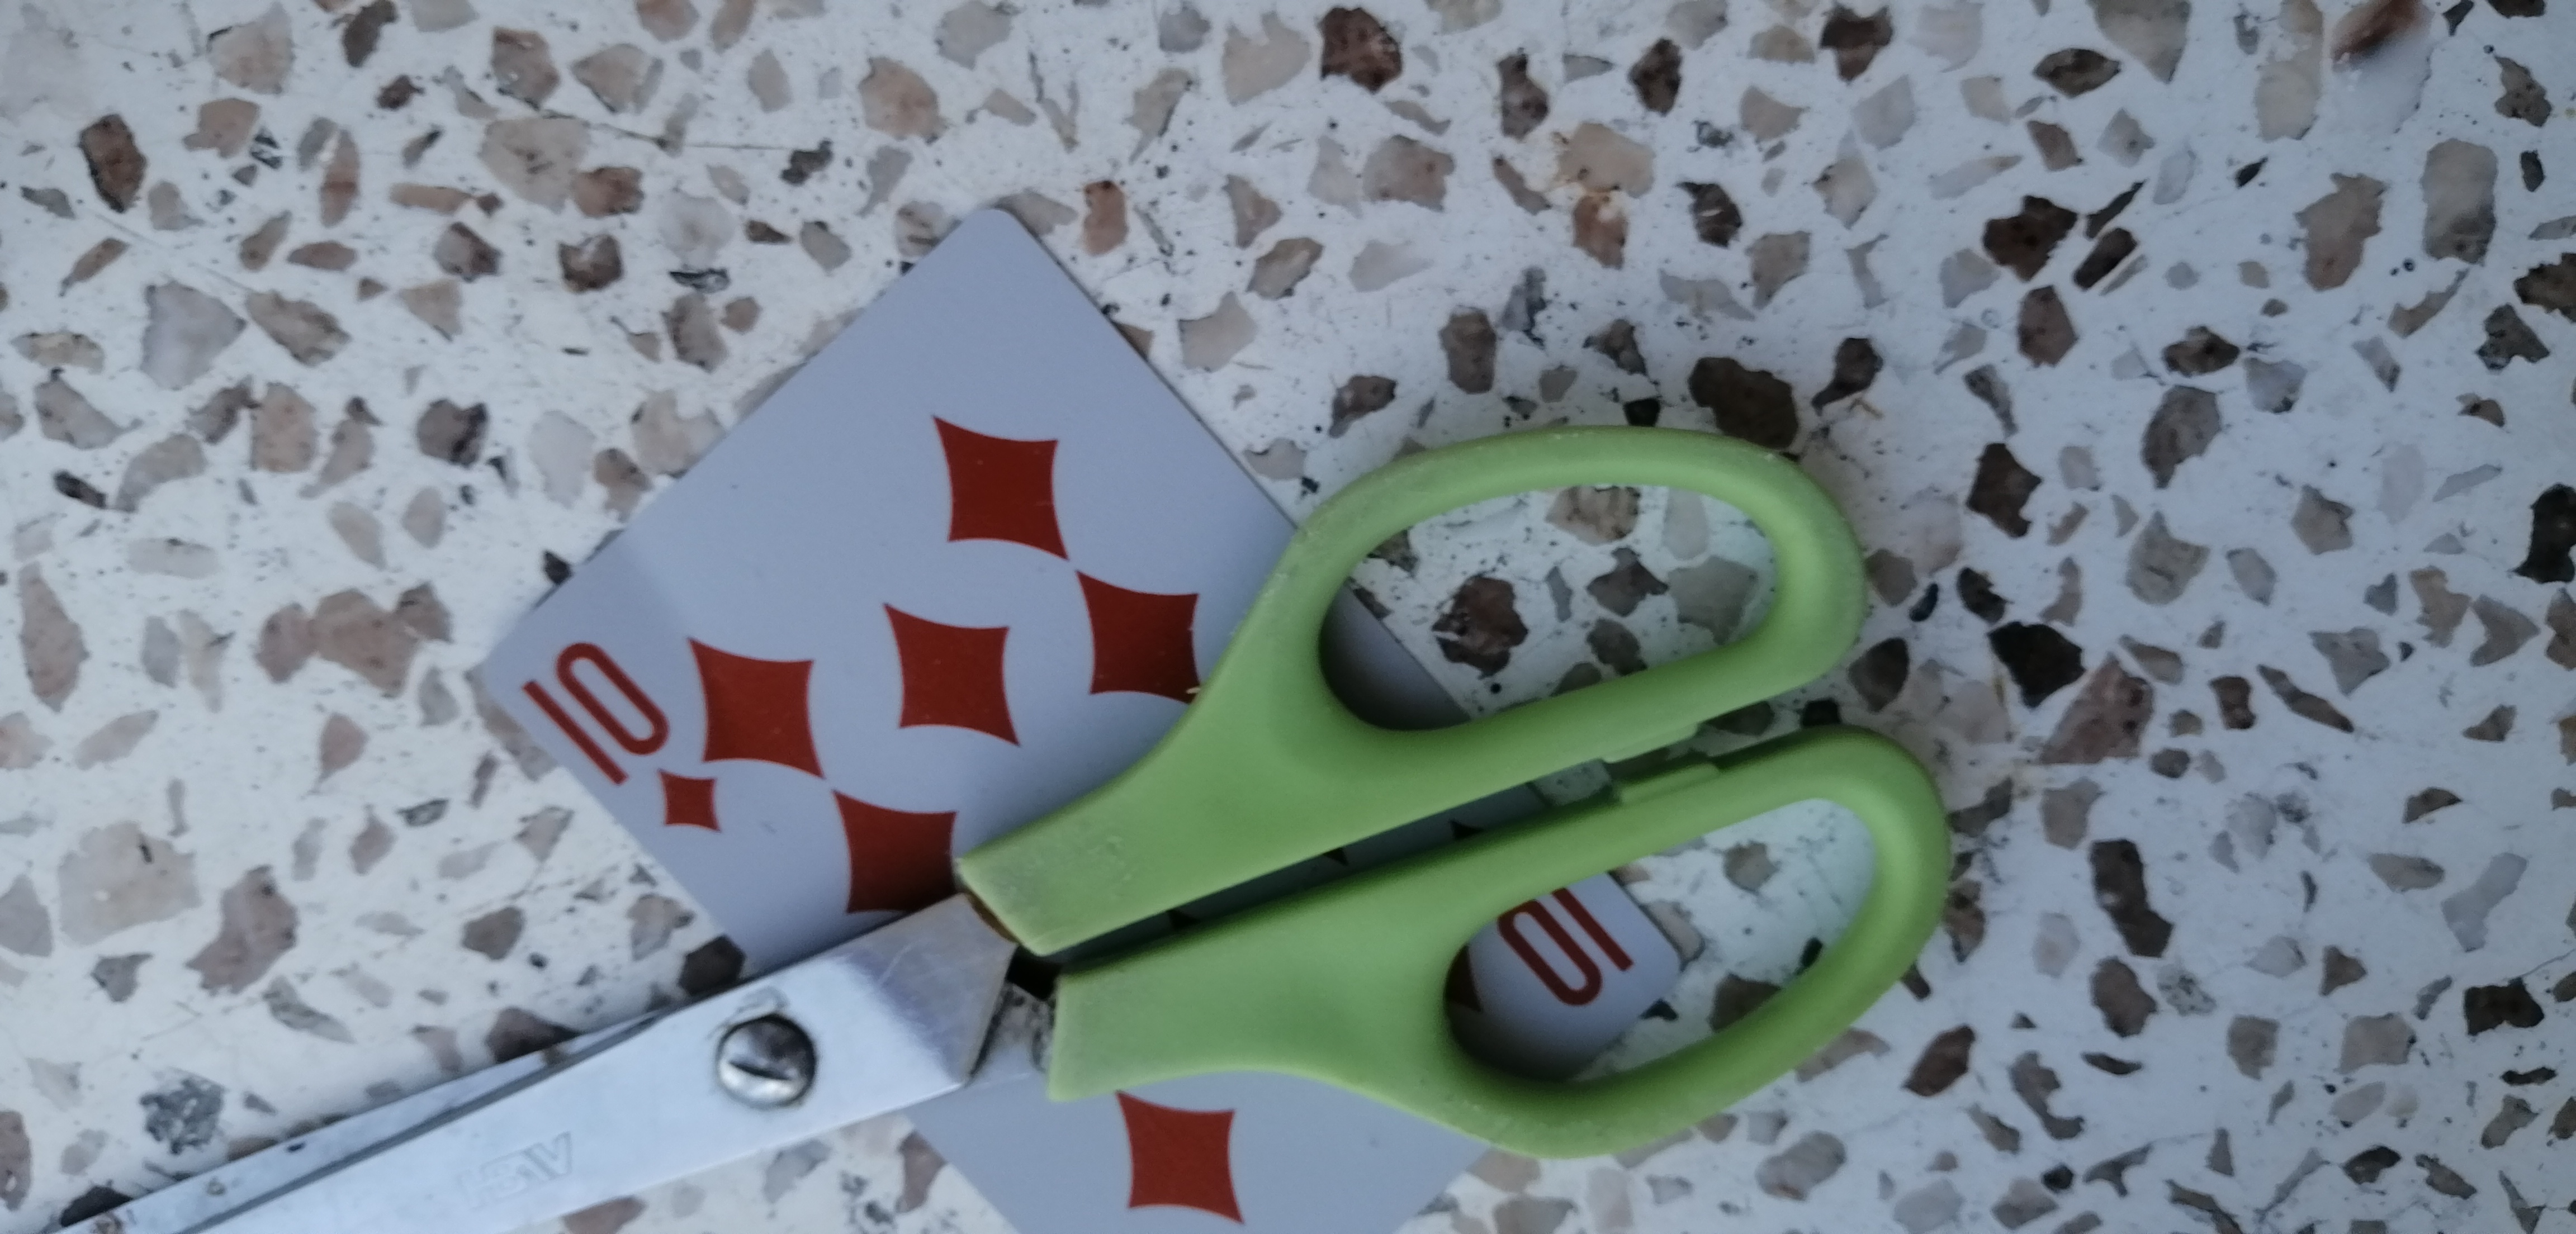ten: (457, 243, 1682, 1103)
